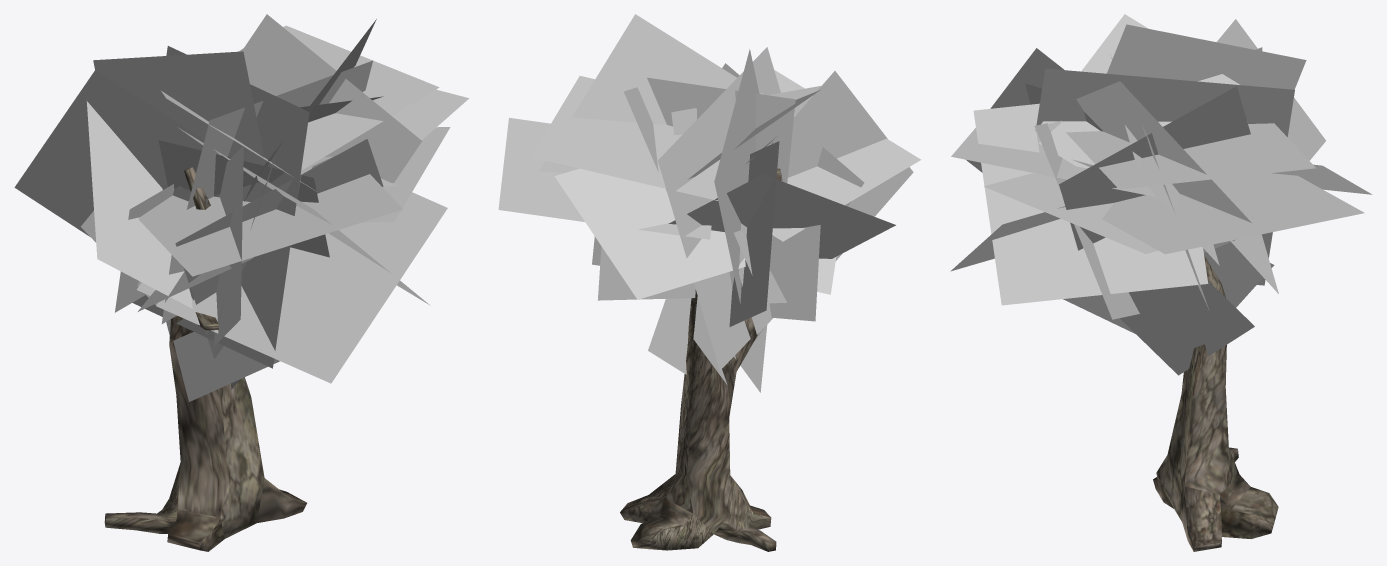
File: Arvore3Var2.fbx
3 renders of one model, left to right at view 1: azimuth 30°, elevation 25°; view 2: azimuth 150°, elevation 25°; view 3: azimuth 270°, elevation 25°, orthographic. The views are drawn at different scales.
Visible parts, largest first — view 1: Folhas3, Tronco4; view 2: Folhas3, Tronco4; view 3: Folhas3, Tronco4.
Part boxes in pixels (bbox=[...]): Folhas3: bbox=[14, 14, 468, 401]; Tronco4: bbox=[104, 167, 306, 551]; Folhas3: bbox=[498, 14, 920, 392]; Tronco4: bbox=[620, 168, 782, 551]; Folhas3: bbox=[950, 14, 1372, 375]; Tronco4: bbox=[1153, 255, 1278, 551].
Size of the model in its own units: 867 by 835 by 1088.
